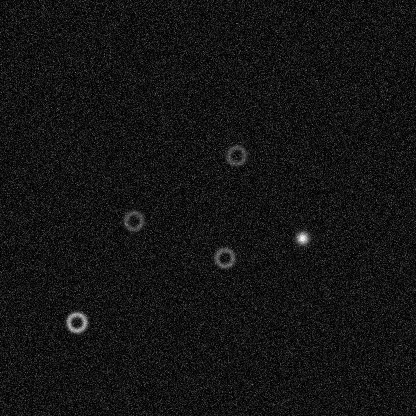Ring: (64, 310, 88, 334), (212, 245, 236, 269), (121, 208, 145, 232), (224, 143, 248, 167)
Spot: (294, 229, 310, 245)
